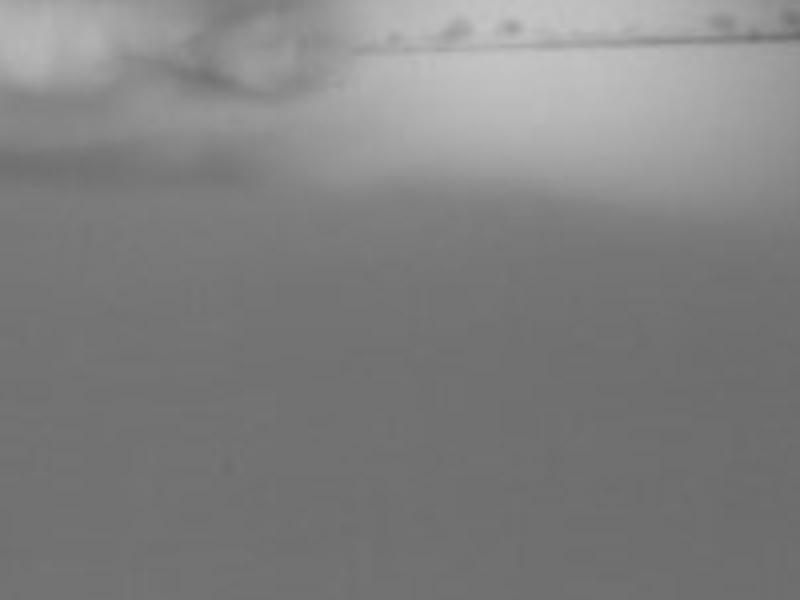defect: (433, 17, 472, 45), (705, 11, 742, 32), (775, 7, 797, 34), (493, 20, 525, 38), (381, 29, 400, 48)
